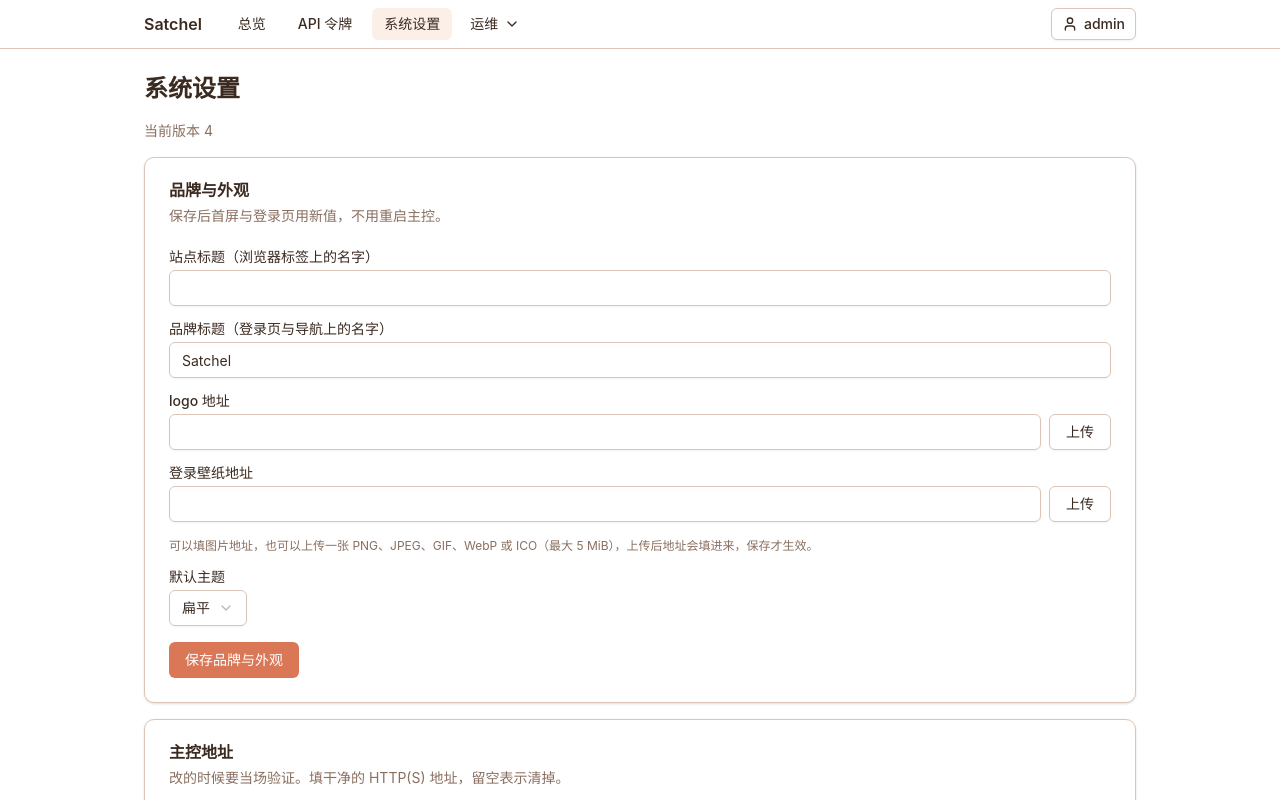
Test case: 系统设置页 › 改品牌后登录页变了：带读到的版本号保存，退出登录后登录页用新标题
Replace the text in the field labelled "品牌标题（登录页与导航上的名字）" with "测试面板" at (640, 360), box [169,342,1111,378]
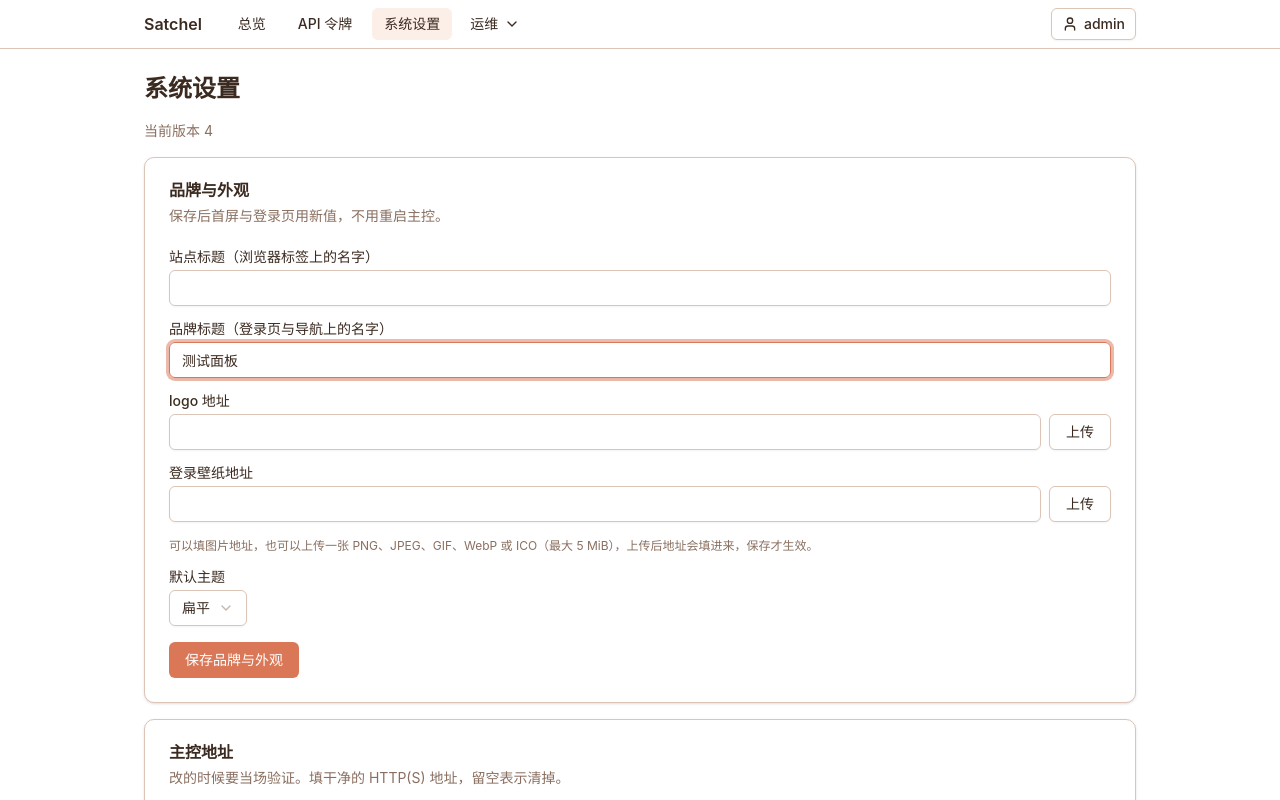
Click the button "保存品牌与外观" at (234, 660), box [169,642,299,678]
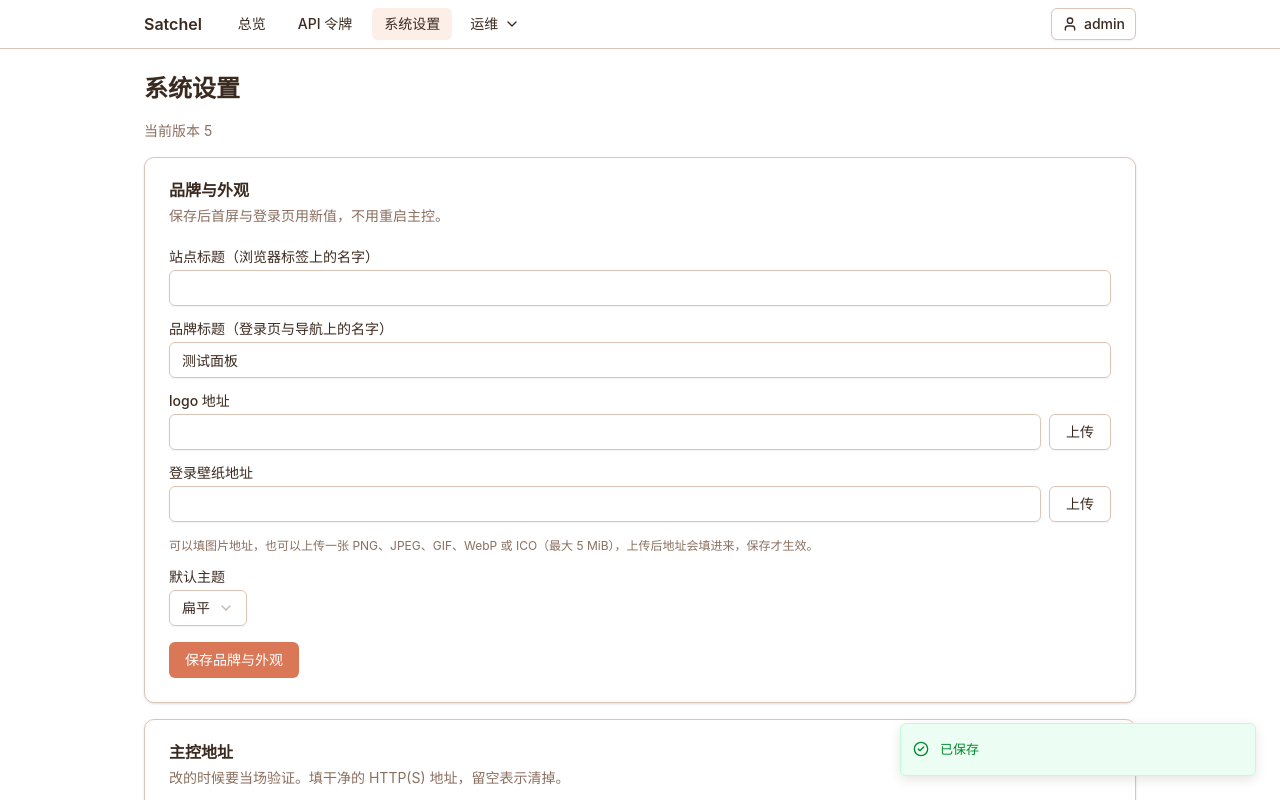
Check: the text "当前版本 5" is shown, box [144,122,212,139]
Click the button with aria-label "账号" at (1094, 24), box [1051,8,1136,40]
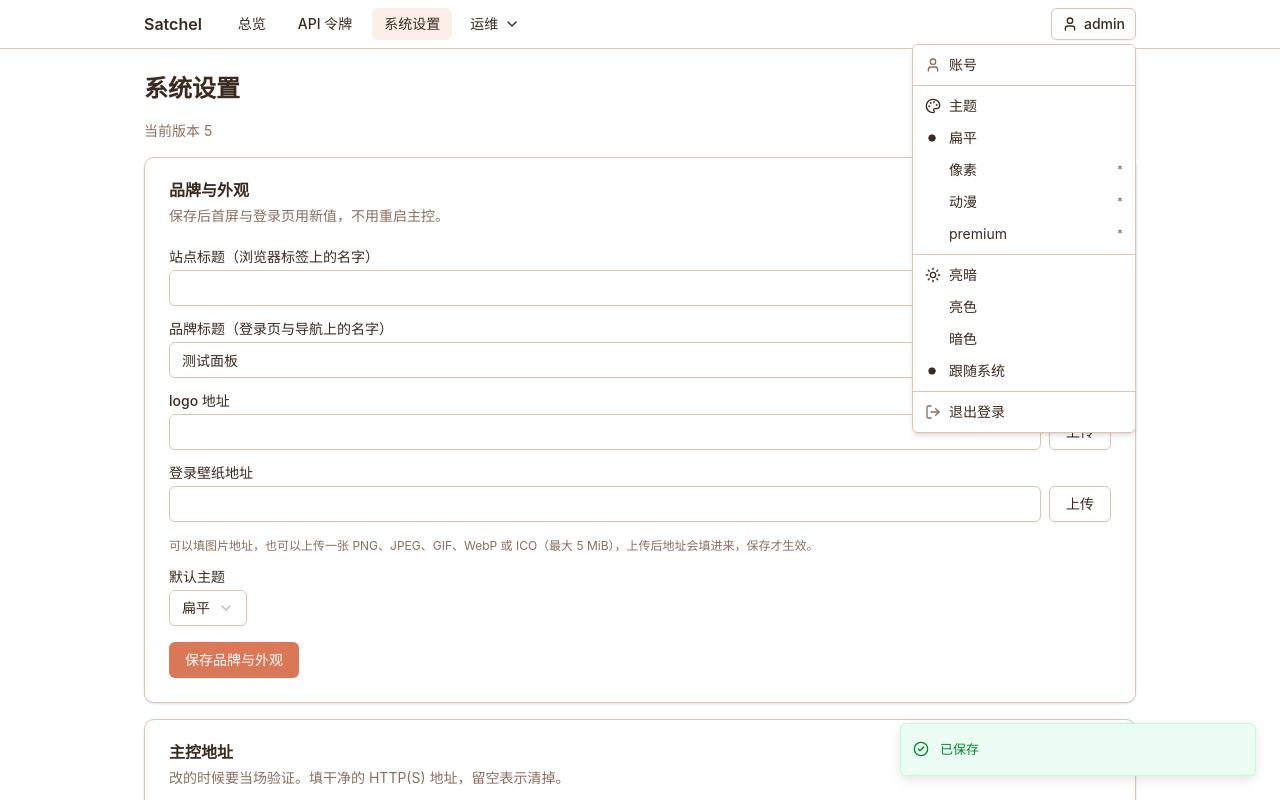
Click the menu item "退出登录" at (965, 412), box [925,403,1005,420]
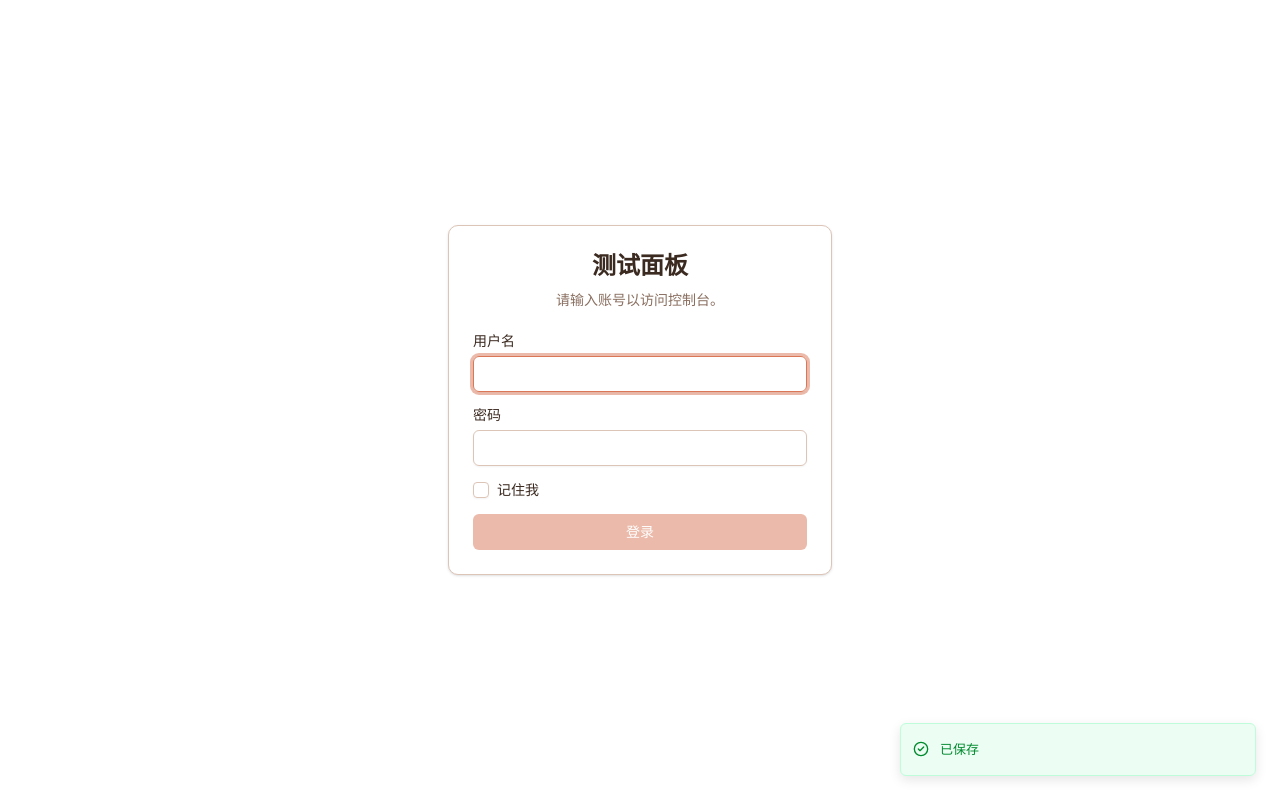
Check: the text "测试面板" is shown, box [592,251,688,280]
